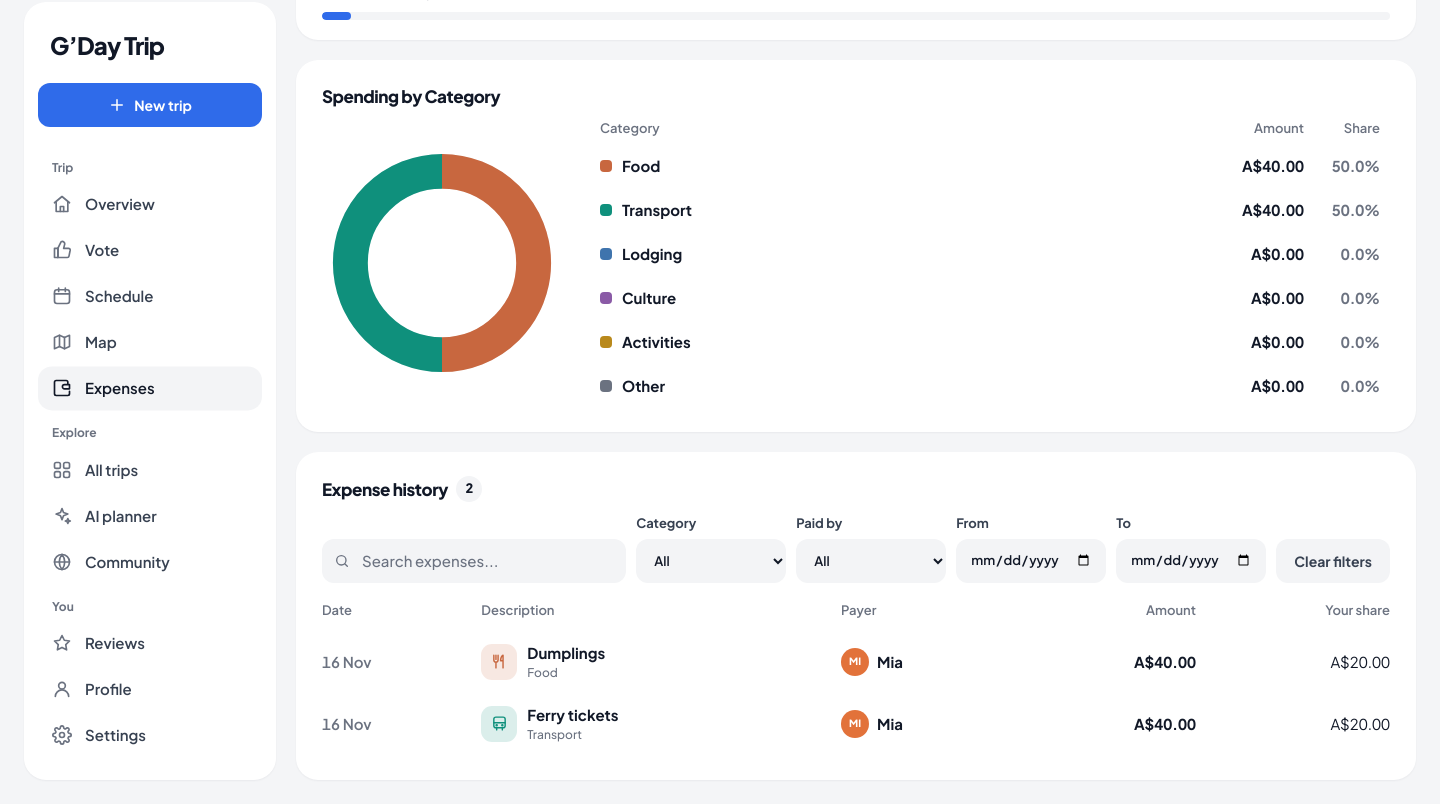
it: Expenses › filters narrow the history and say when nothing matches
(page scrolled)
Check: the navigation bar with id "auth" is shown, box [38, 366, 262, 410]
Type "dump" into the search field with placeholder "Search expenses...".
click(487, 561); type("dump")  # box [360, 539, 614, 583]
(page scrolled)
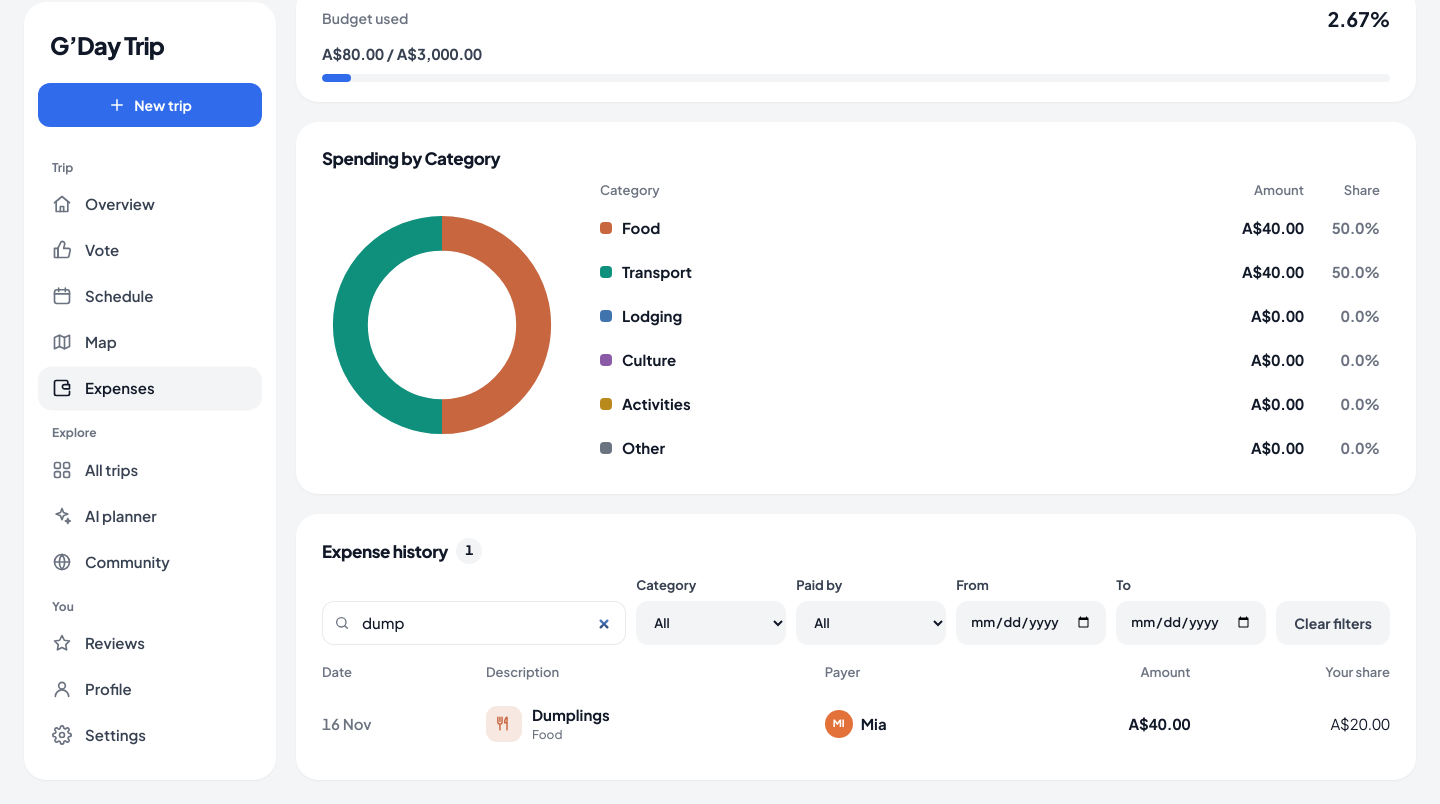
Check: the text "Dumplings" is shown, box [532, 705, 610, 724]
Check: the text "Ferry tickets" is gone
Clear the search field with placeholder "Search expenses..." at (487, 623), box [360, 601, 614, 645]
(page scrolled)
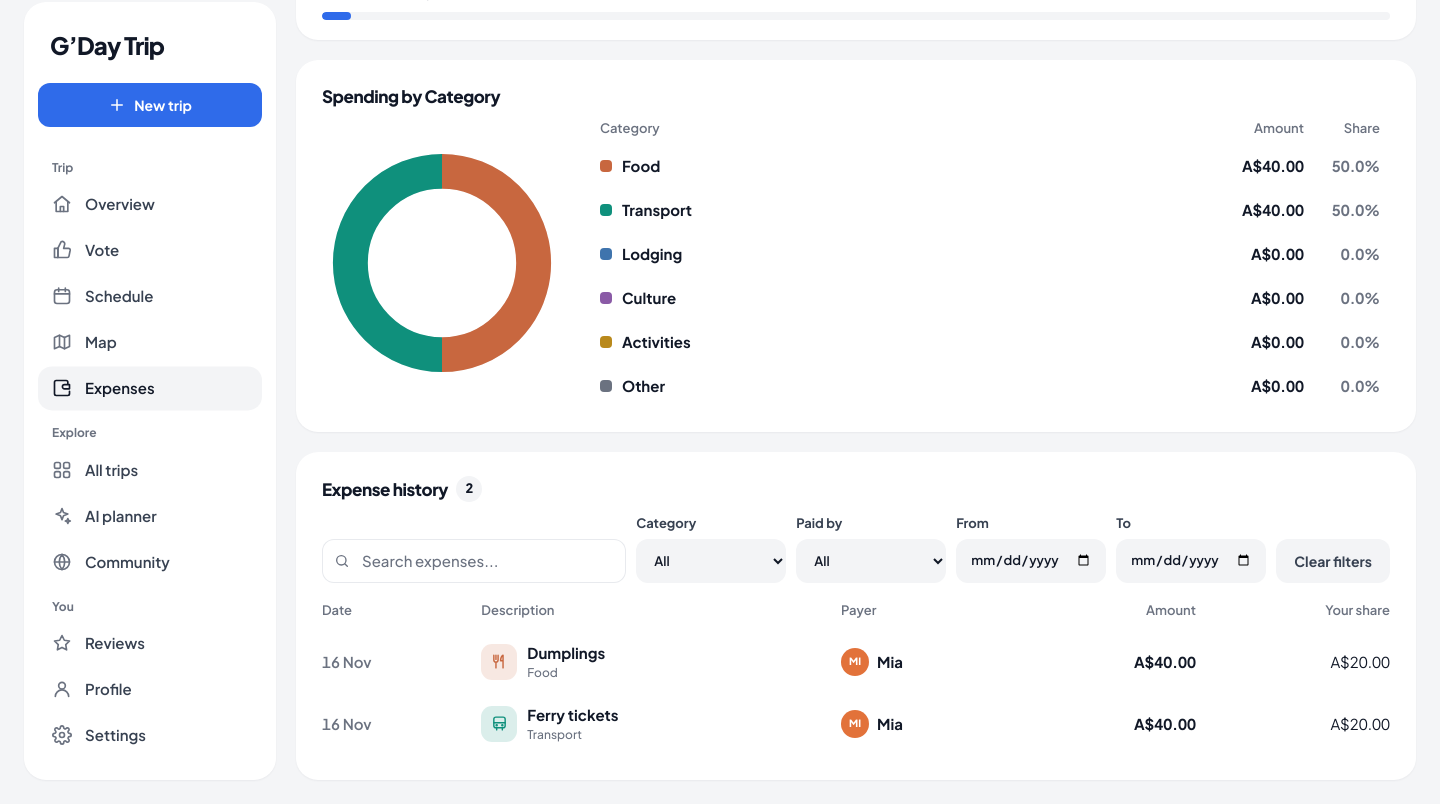
Type "taxi" into the search field with placeholder "Search expenses...".
click(487, 561); type("taxi")  # box [360, 539, 614, 583]
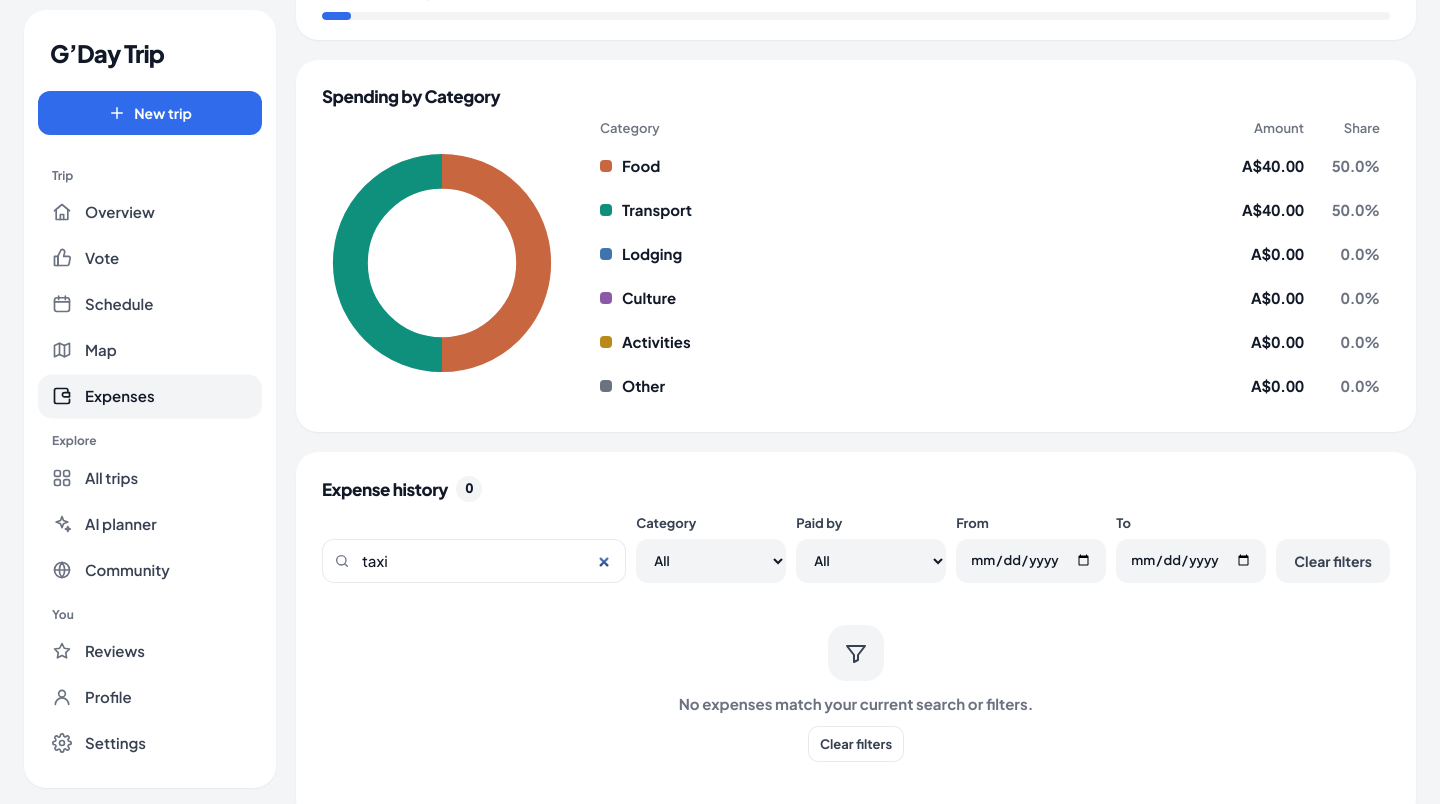
Check: the text "No expenses match your current search or filters." is shown, box [679, 693, 1033, 714]
